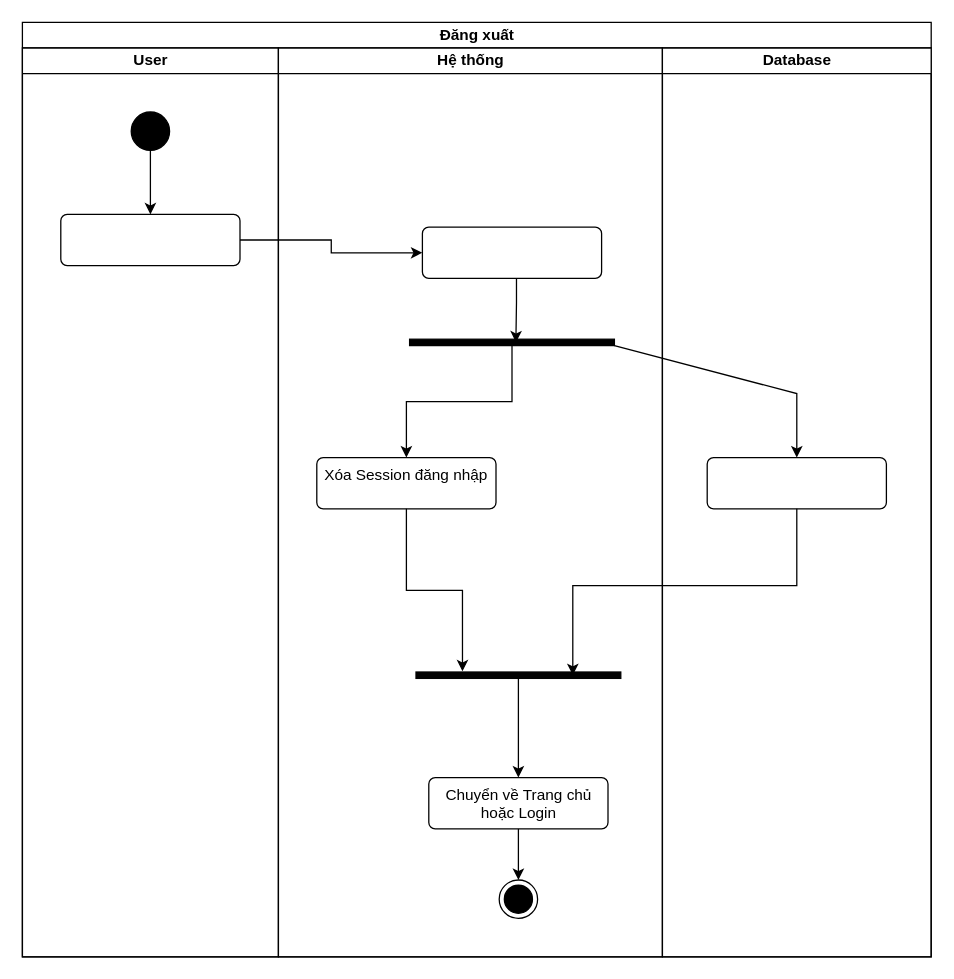
The diagram is 954 pixels wide and 979 high, and some of its shapes have lost their labels. The centre of each missing label's shape, as x and y in pixels:
"Chọn Đăng xuất" goes at (150,239).
"Nhận yêu cầu đăng xuất" goes at (511,252).
"Xóa Session (nếu lưu)" goes at (796,482).
